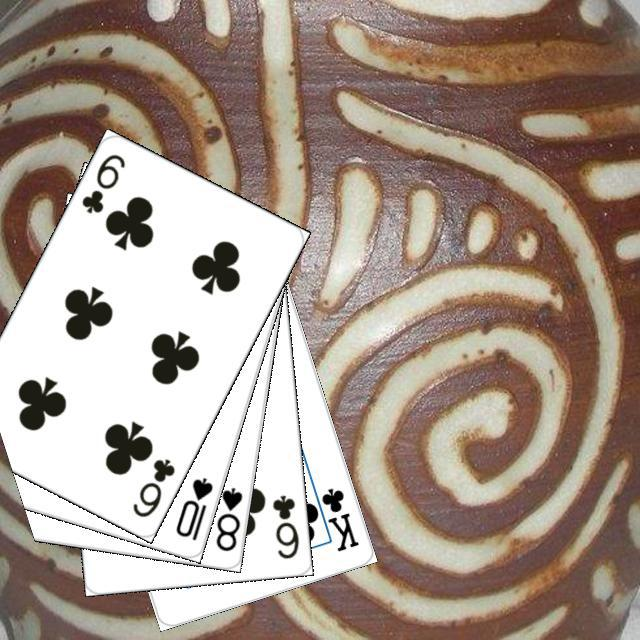10s: (170, 472, 215, 542)
6c: (76, 149, 127, 216), (127, 453, 177, 519), (267, 490, 301, 561)
8s: (211, 482, 245, 553)
Kc: (307, 481, 361, 554)
